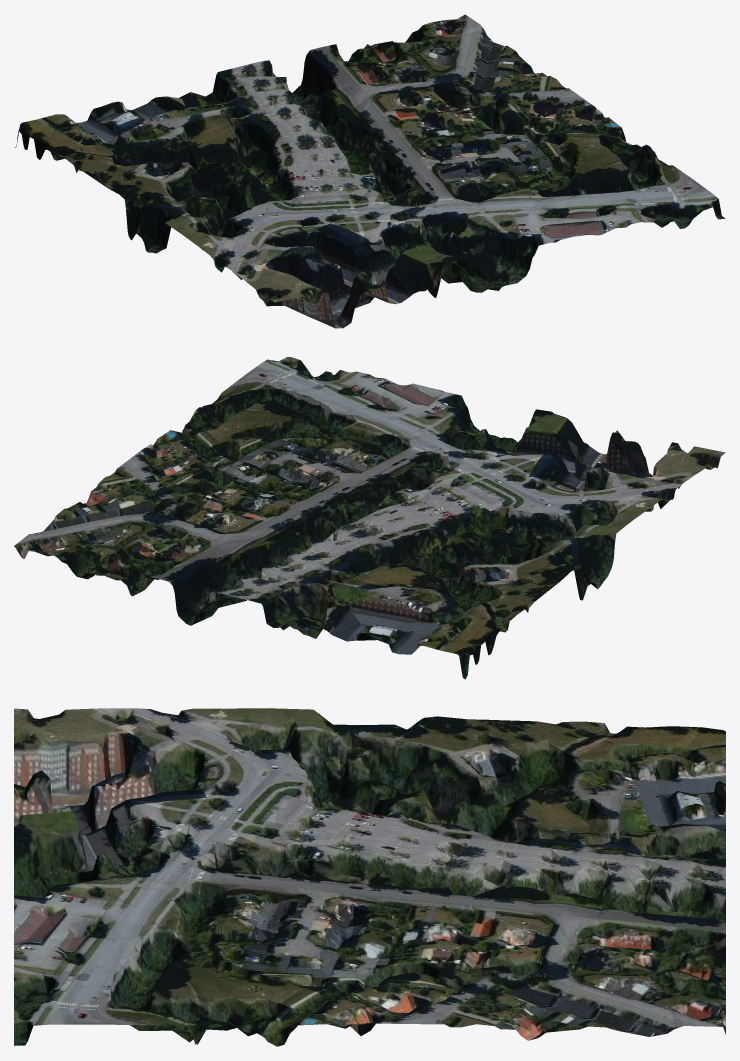
The model's file is map_13_2042_3449.dae.
The picture shows the model from 3 angles, top to bottom: view 1: azimuth 30°, elevation 25°; view 2: azimuth 150°, elevation 25°; view 3: azimuth 270°, elevation 25°; orthographic projection. The views are drawn at different scales.
Visible parts, largest first — view 1: Ter0; view 2: Ter0; view 3: Ter0.
Part boxes in pixels (left/top/right/bottom): Ter0: left=15, top=14, right=725, bottom=328; Ter0: left=14, top=357, right=725, bottom=679; Ter0: left=14, top=708, right=725, bottom=1046.
Bounding box in the file's own units: 256 × 256 × 28.79.
Materials: 3 (3 with a texture image).
